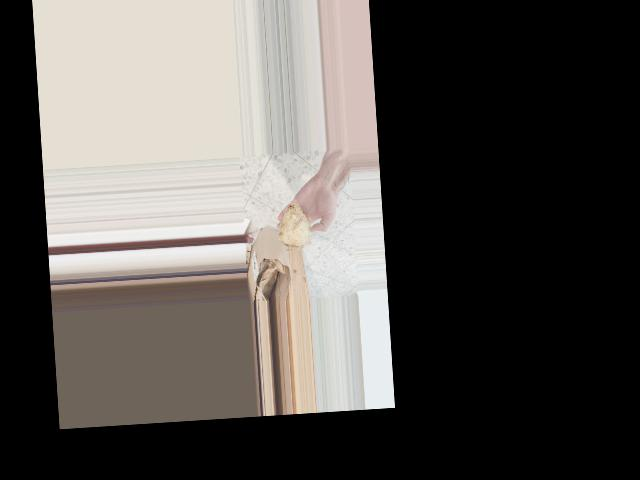onion: (275, 198, 318, 252)
